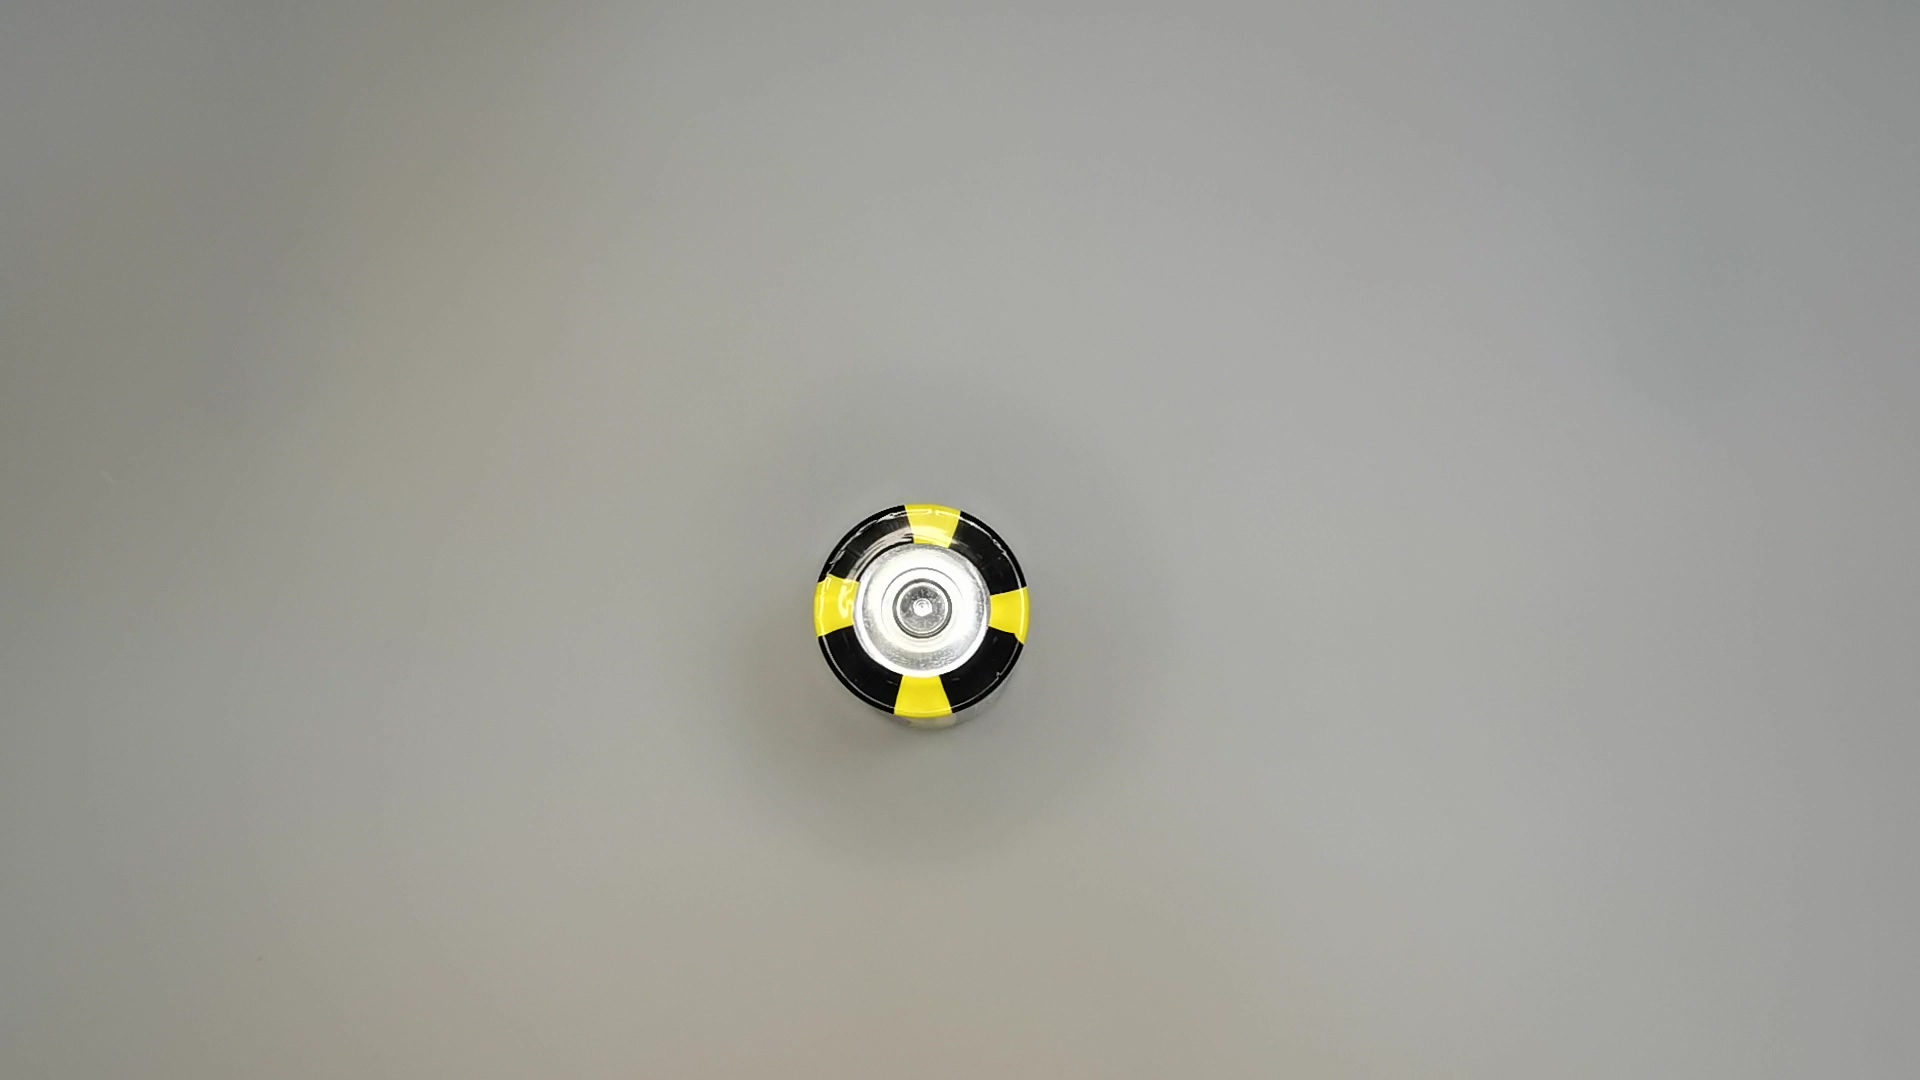battery: (811, 501, 1030, 738)
